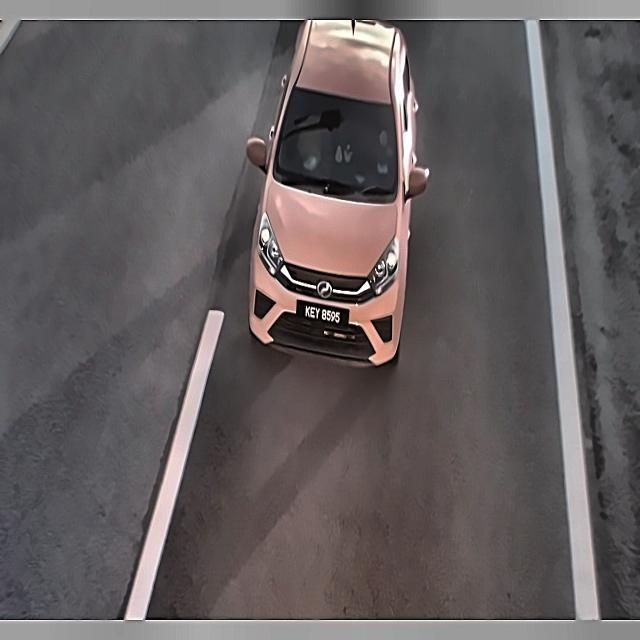car: (294, 296, 352, 333)
